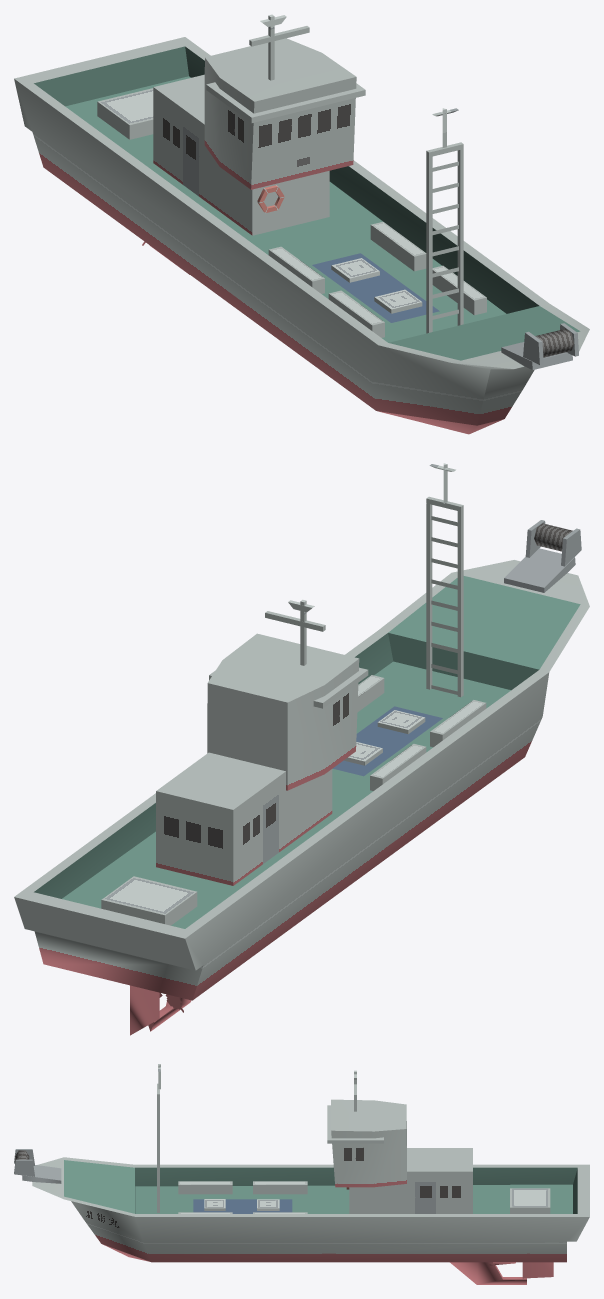
The model's file is 028a_Trawler.glb.
3 views of the same model, one above another, from view 1: azimuth 30°, elevation 25°; view 2: azimuth 150°, elevation 25°; view 3: azimuth 270°, elevation 25° (orthographic). The views are drawn at different scales.
Parts seen in each view (by area): view 1: part_0; view 2: part_0; view 3: part_0.
Boxes of the visible parts, <box> form: part_0: <box>14,14,589,434</box>; part_0: <box>14,463,589,1035</box>; part_0: <box>14,1064,589,1284</box>.
Size of the model in its own units: 5.73 by 11.27 by 26.76.
Materials: 1 (1 with a texture image).
